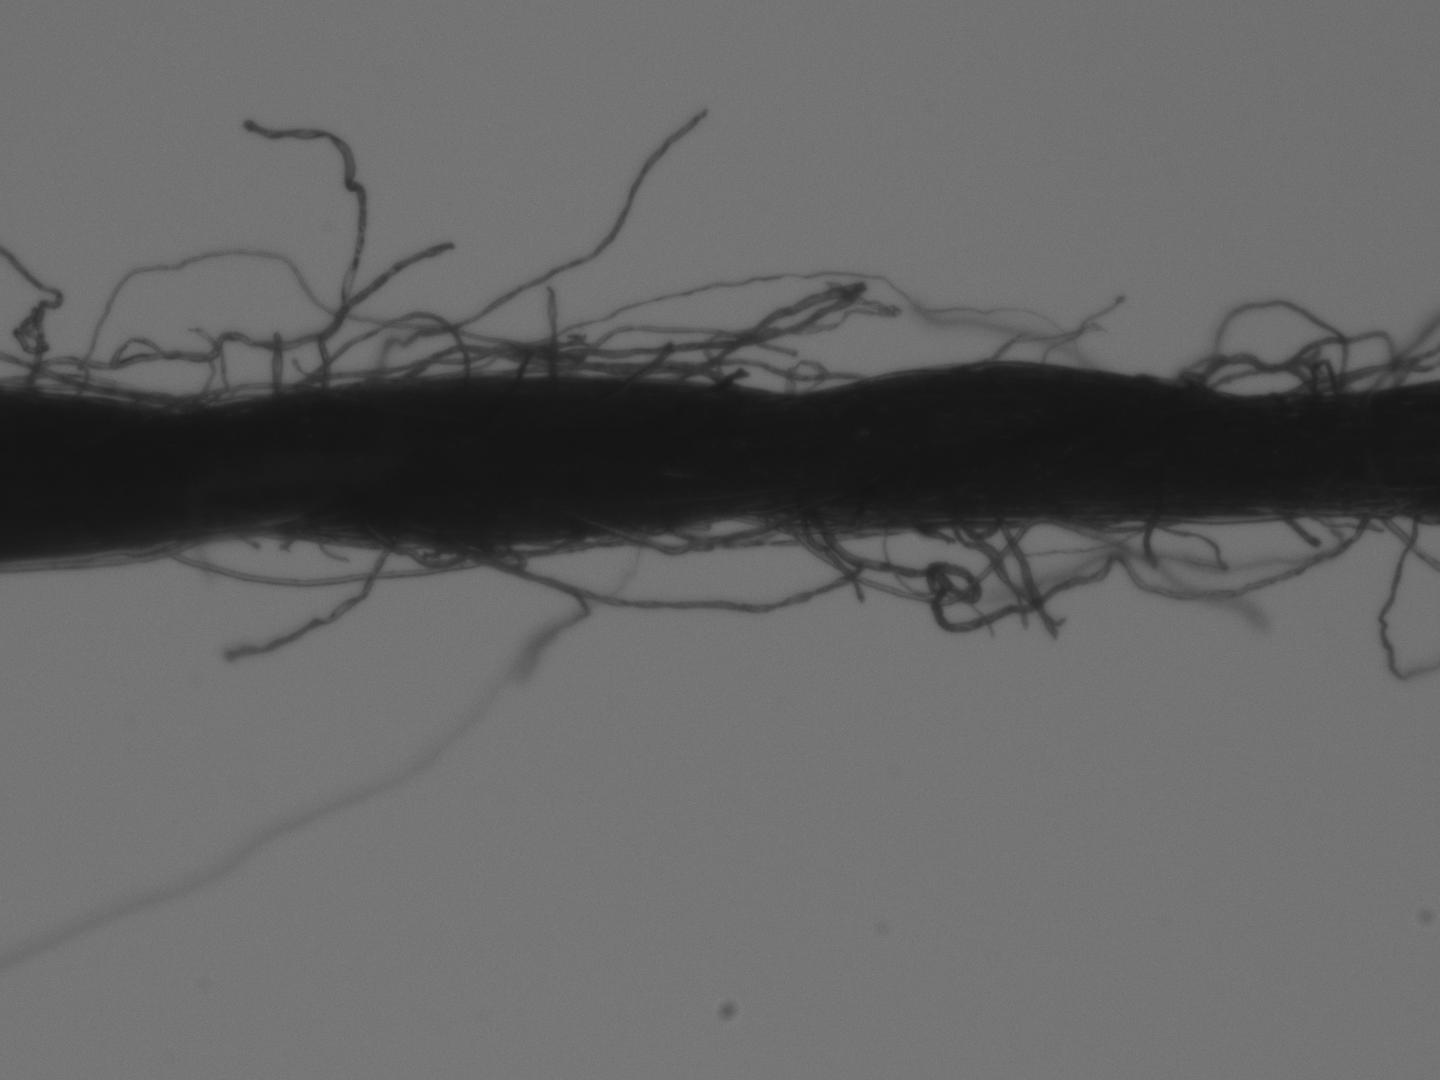loop_fiber: (818, 508, 1369, 633), (532, 280, 861, 387), (772, 514, 1024, 601), (155, 531, 488, 587), (1198, 298, 1352, 393), (295, 309, 467, 391), (1193, 329, 1404, 395), (400, 343, 576, 386), (677, 360, 863, 394), (489, 362, 719, 383), (439, 535, 582, 569), (372, 528, 466, 572), (1210, 361, 1314, 395), (664, 511, 771, 543), (956, 514, 1001, 539)
protruding_fiber: (375, 103, 710, 383), (27, 241, 454, 382), (243, 119, 370, 388), (223, 547, 388, 660), (1274, 511, 1322, 550), (544, 285, 557, 374), (1143, 516, 1154, 567)
